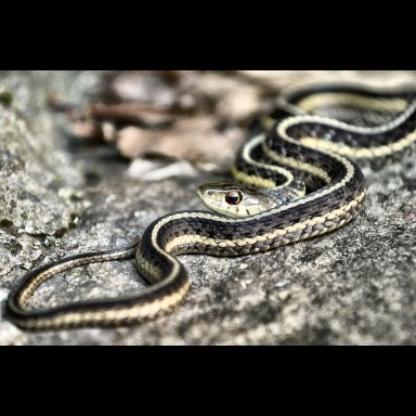Snake: (4, 83, 411, 346)
